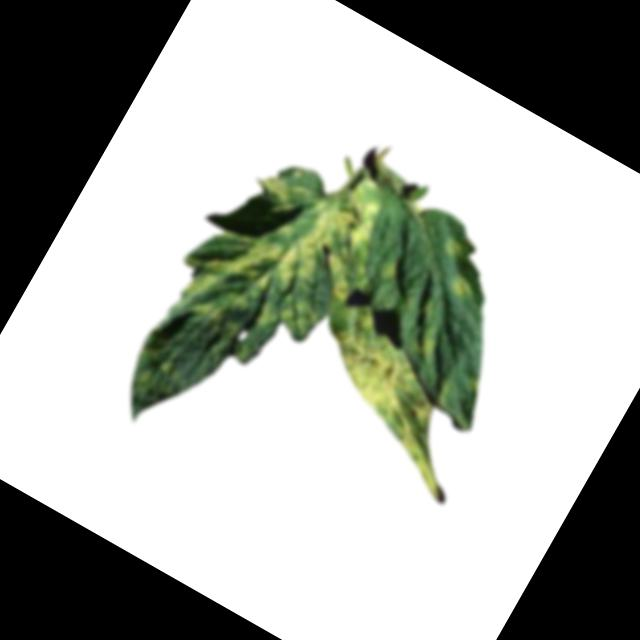Leaf_Mold: (161, 119, 403, 378), (288, 313, 513, 508), (252, 166, 299, 208), (372, 251, 405, 286), (444, 274, 479, 306), (439, 234, 464, 257)
